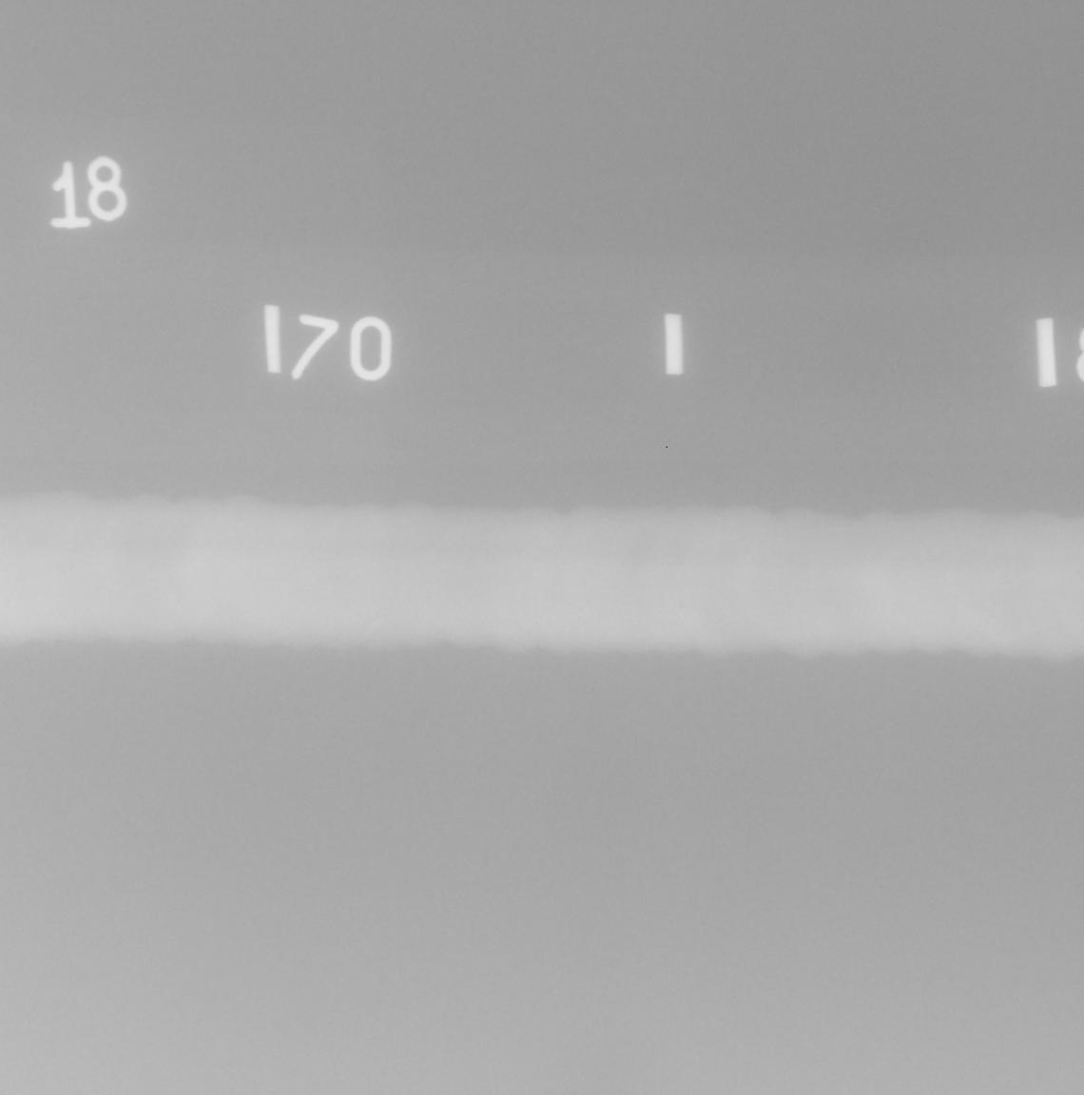Pore/Porosity: (678, 604, 683, 609)
